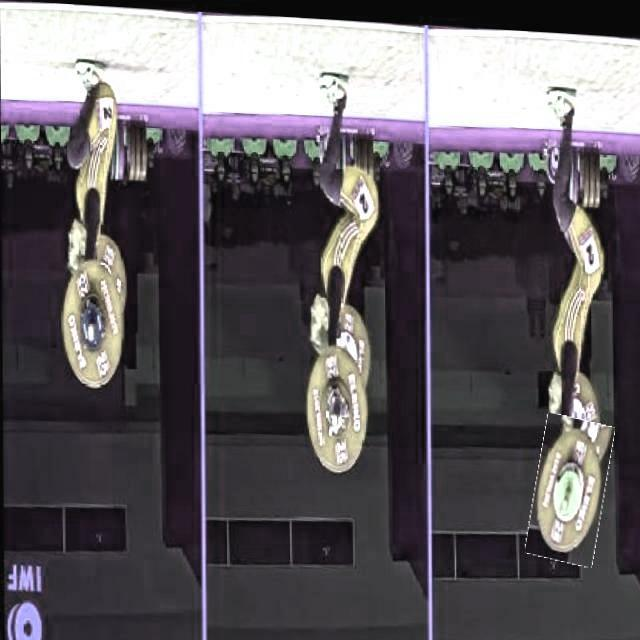barbell: (530, 407, 610, 559)
